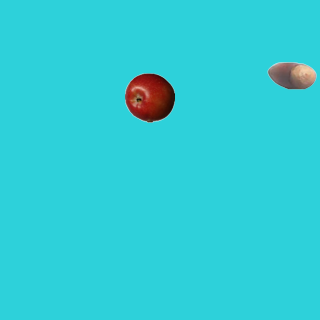Apple Braeburn: (124, 72, 174, 122)
Hazelnut: (266, 50, 316, 100)
